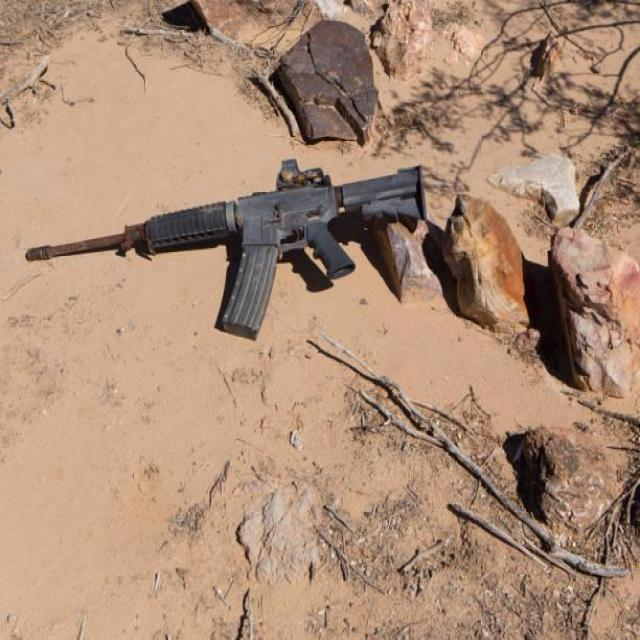Rifle: (27, 158, 429, 342)
